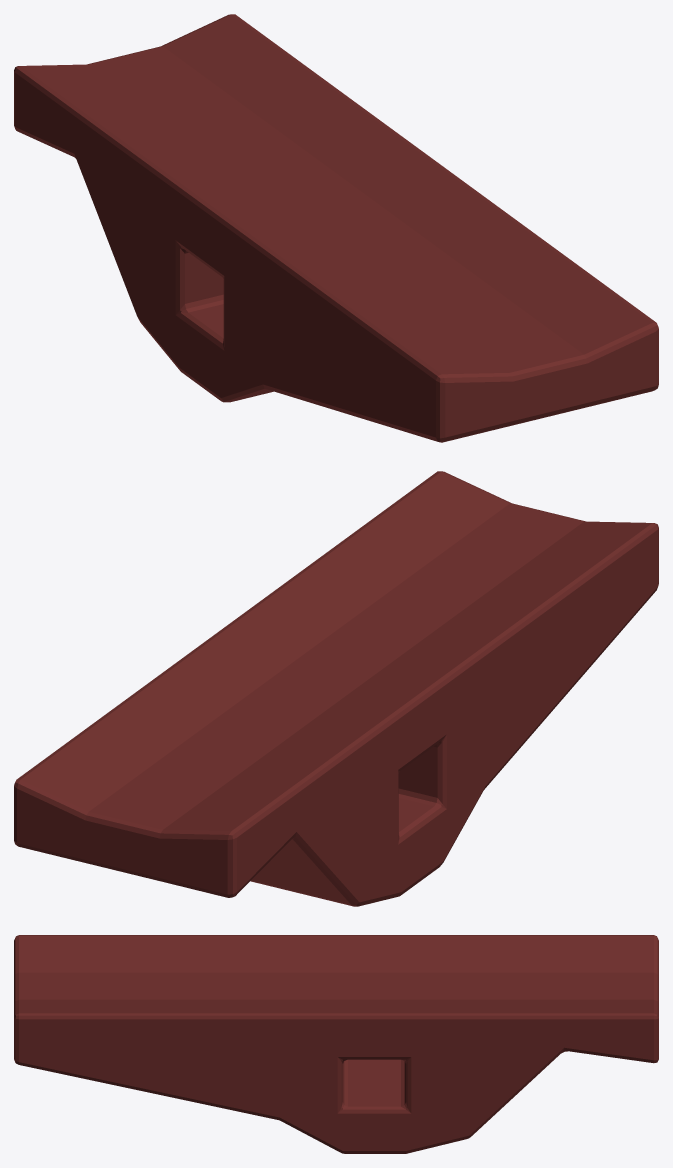
Rendered from Weapon.fbx.
3 views of the same model, one above another, from view 1: azimuth 30°, elevation 25°; view 2: azimuth 150°, elevation 25°; view 3: azimuth 270°, elevation 25° (orthographic). The views are drawn at different scales.
Visible parts, largest first — view 1: Weapon; view 2: Weapon; view 3: Weapon.
Boxes of the visible parts, box(x1,y1,x2,y2) form: Weapon: box(14, 14, 658, 442); Weapon: box(14, 471, 658, 906); Weapon: box(14, 935, 658, 1153).
Size of the model in its own units: 30 by 24.03 by 100.
